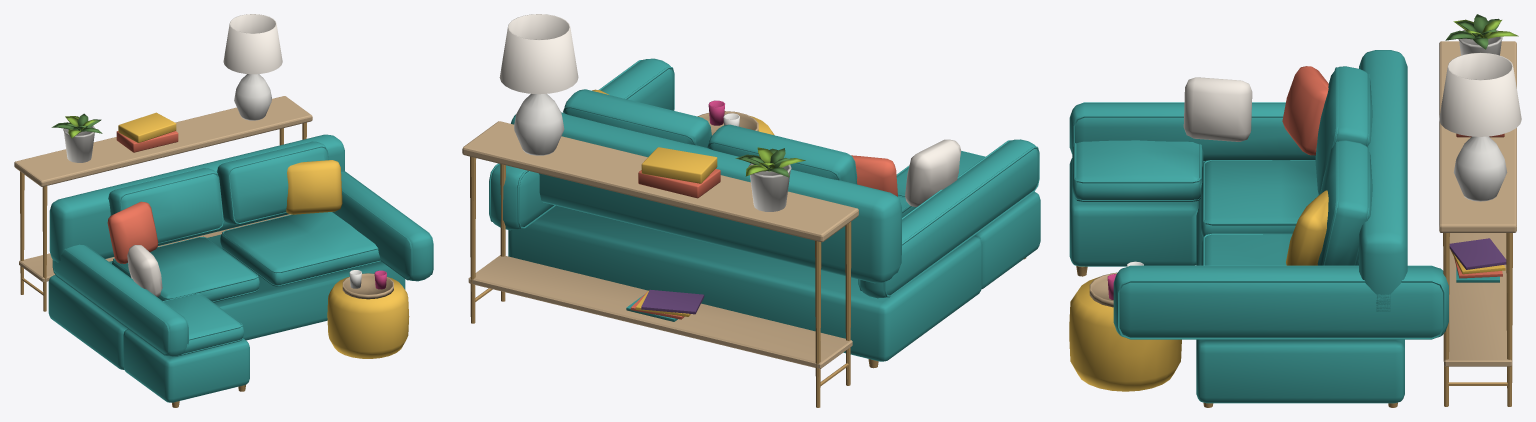
Rendered from conversationSectional.glb.
3 renders of one model, left to right at view 1: azimuth 30°, elevation 25°; view 2: azimuth 150°, elevation 25°; view 3: azimuth 270°, elevation 25°, orthographic. The views are drawn at different scales.
Visible parts, largest first — view 1: body, seats; view 2: body, seats; view 3: body, seats.
Part boxes in pixels (x1,y1,x2,y2): body: [14, 14, 433, 407]; seats: [112, 212, 381, 356]; body: [462, 14, 1040, 407]; seats: [896, 151, 985, 217]; body: [1069, 14, 1521, 407]; seats: [1072, 140, 1318, 265].
Bounding box in the file's own units: 1.9 × 1.42 × 1.86.
